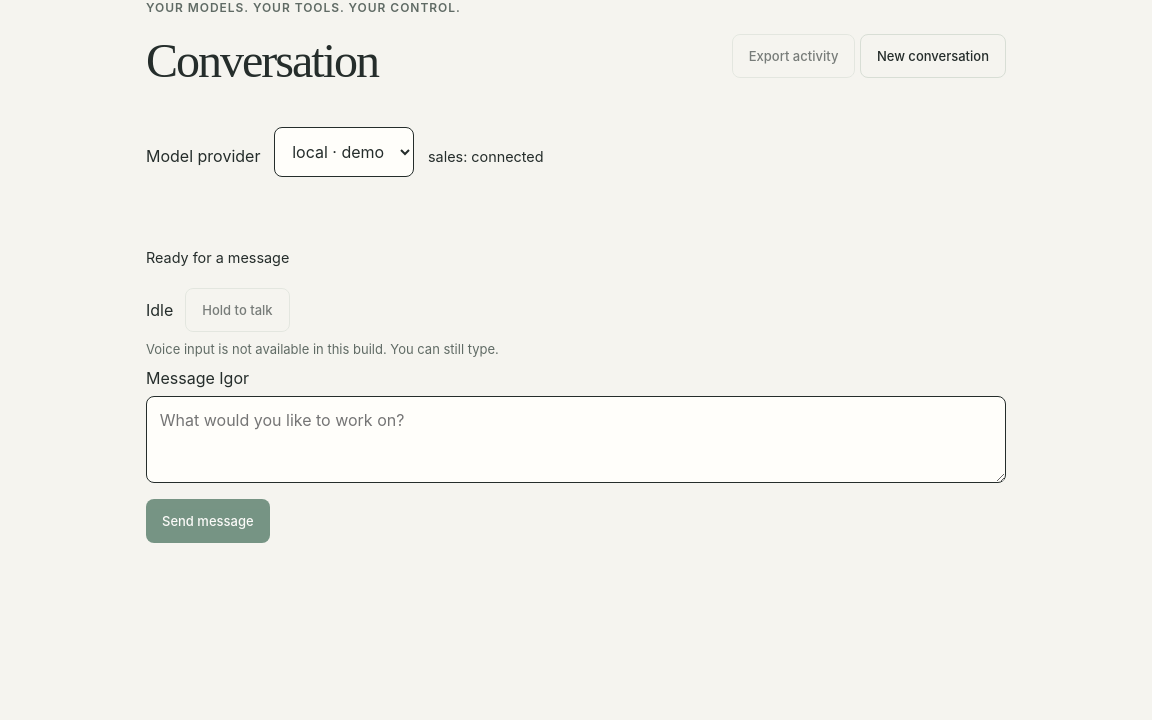
sends Enter, preserves Shift+Enter and composition, and confirms history reset
Type "Keyboard message" into the text box with id "message" at x=576, y=440, box 146,396 -> 1006,483
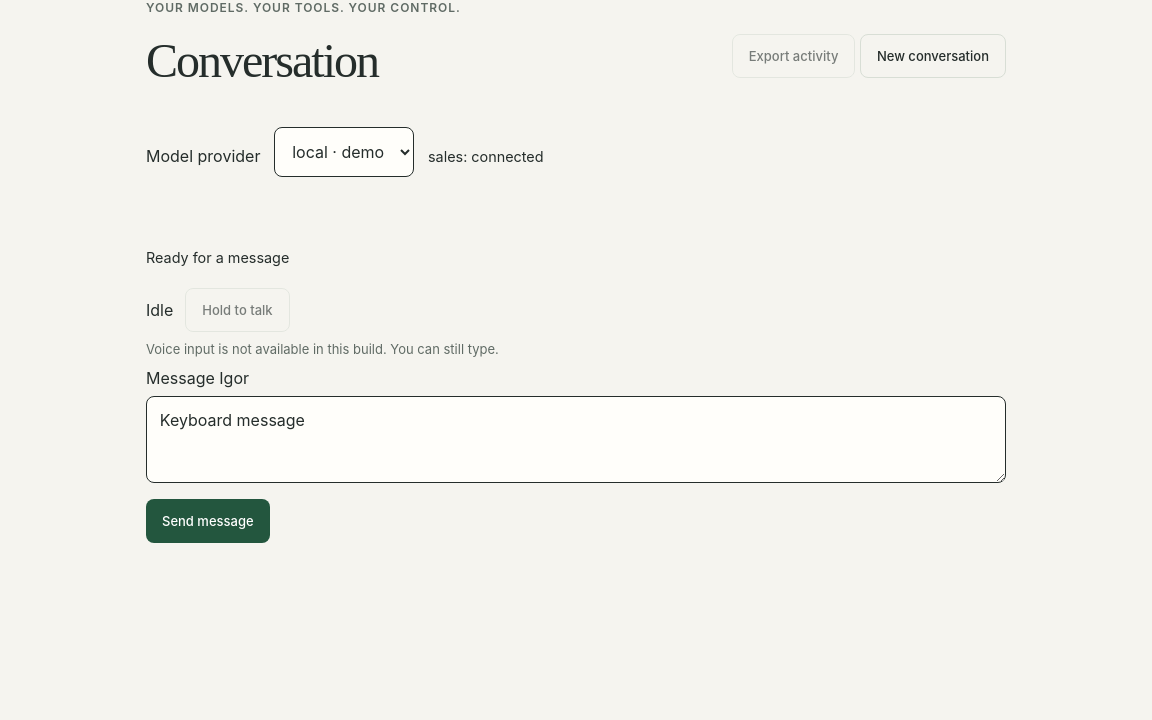
Press Enter in the text box with id "message", box 146,396 -> 1006,483
Press Enter in the text box with id "message", box 146,396 -> 1006,483
Press Enter in the text box with id "message", box 146,396 -> 1006,483
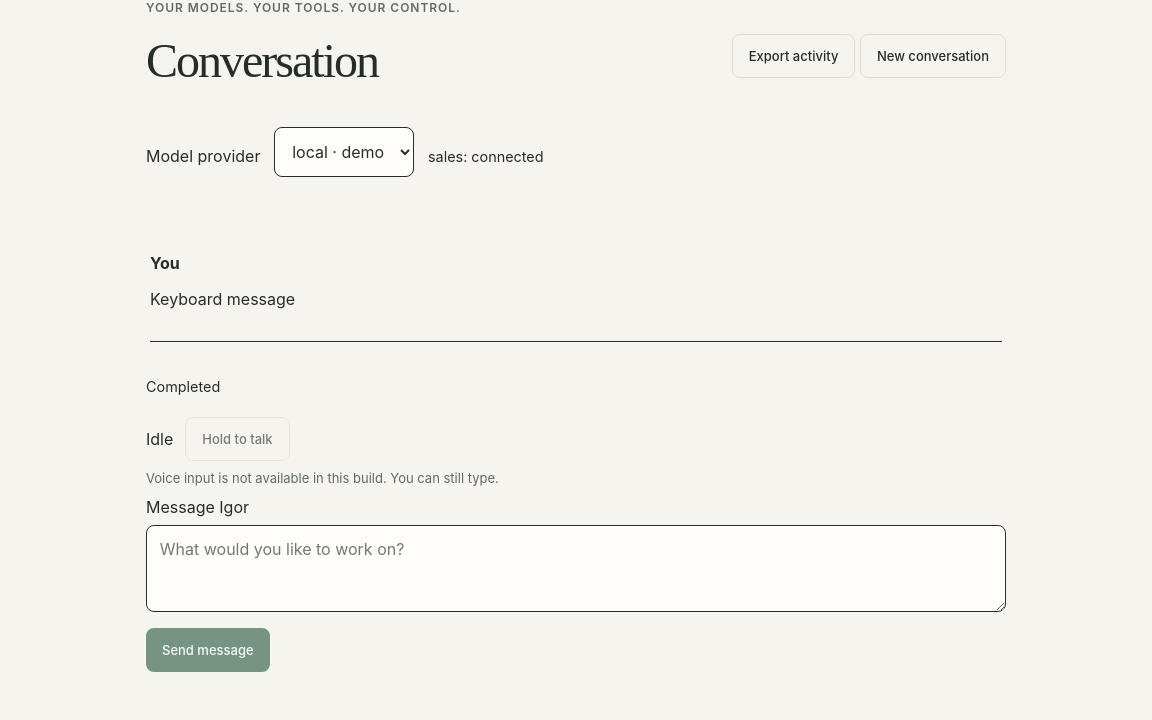
Click the button "New conversation" at x=933, y=56, box 860,34 -> 1006,78
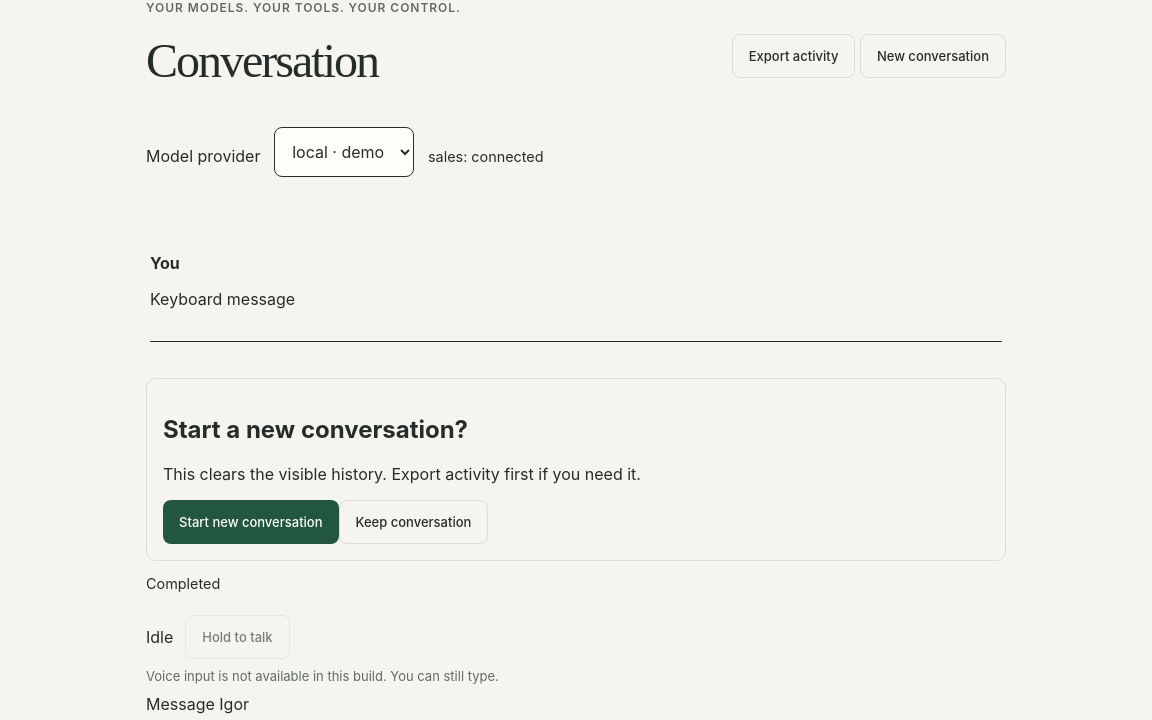
Expected: the dialog shows "Start a new conversation?", 163,415 -> 468,444
Click the button "Keep conversation" at x=413, y=522, box 338,500 -> 488,544
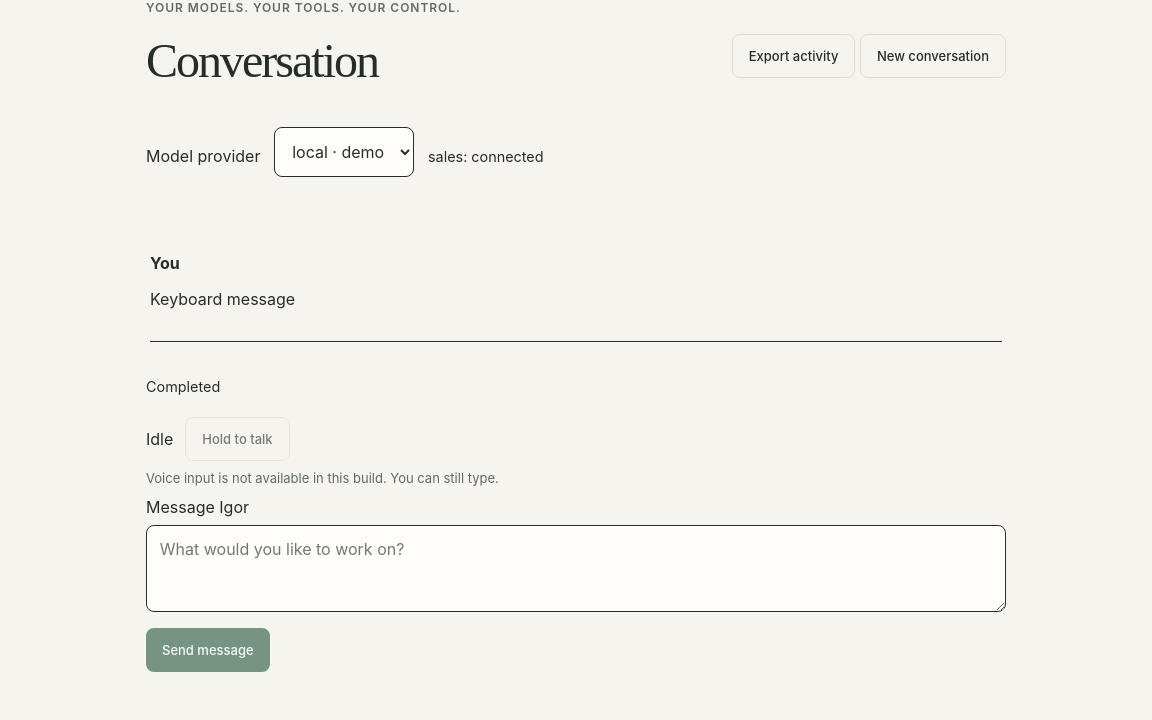
Expected: the text "Keyboard message" is shown, 150,289 -> 295,309
Click the button "New conversation" at x=933, y=56, box 860,34 -> 1006,78
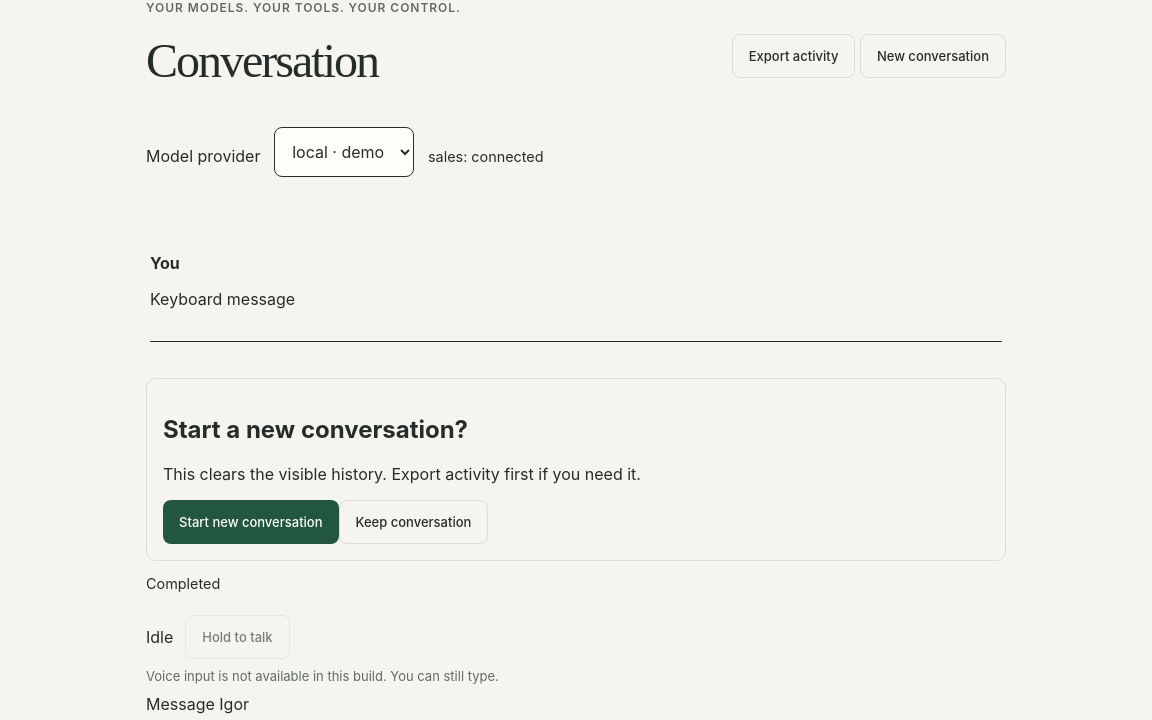
Click the button "Start new conversation" at x=251, y=522, box 163,500 -> 338,544
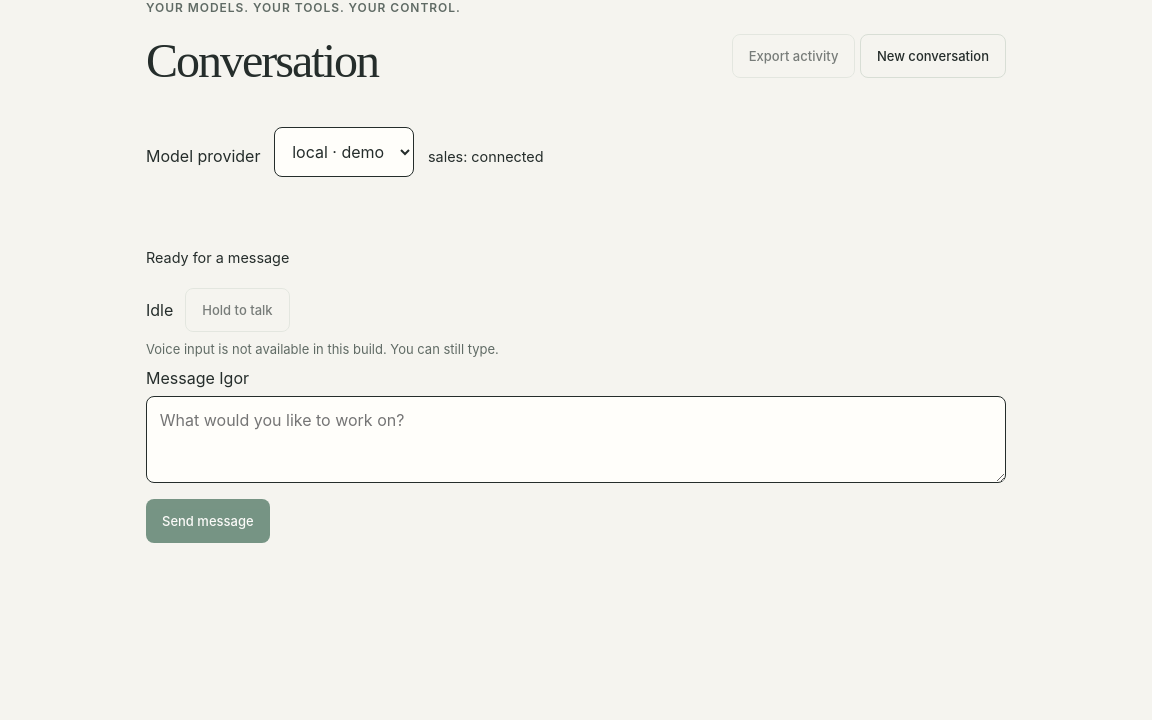
Expected: no list items are shown
